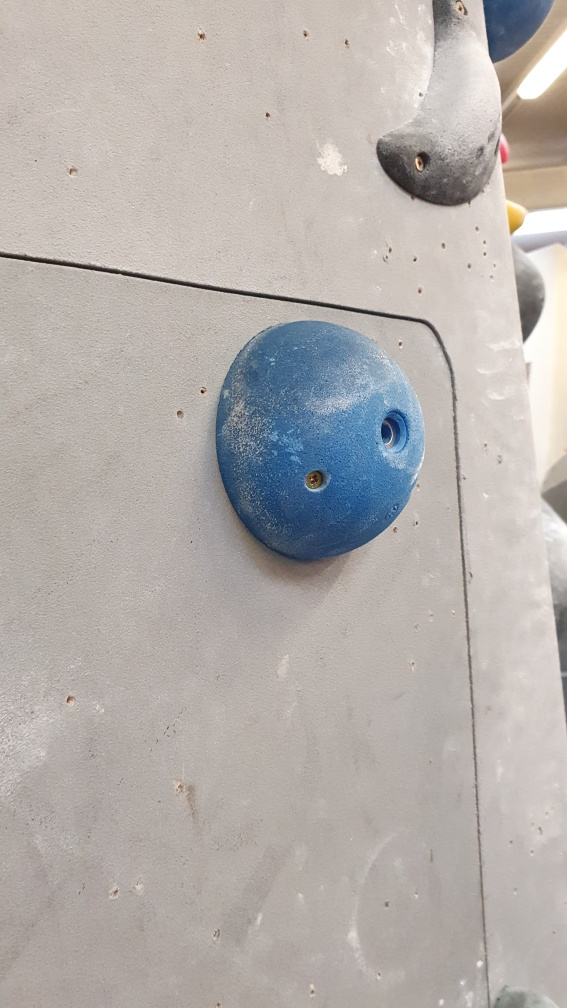Sloper: (212, 317, 430, 567)
